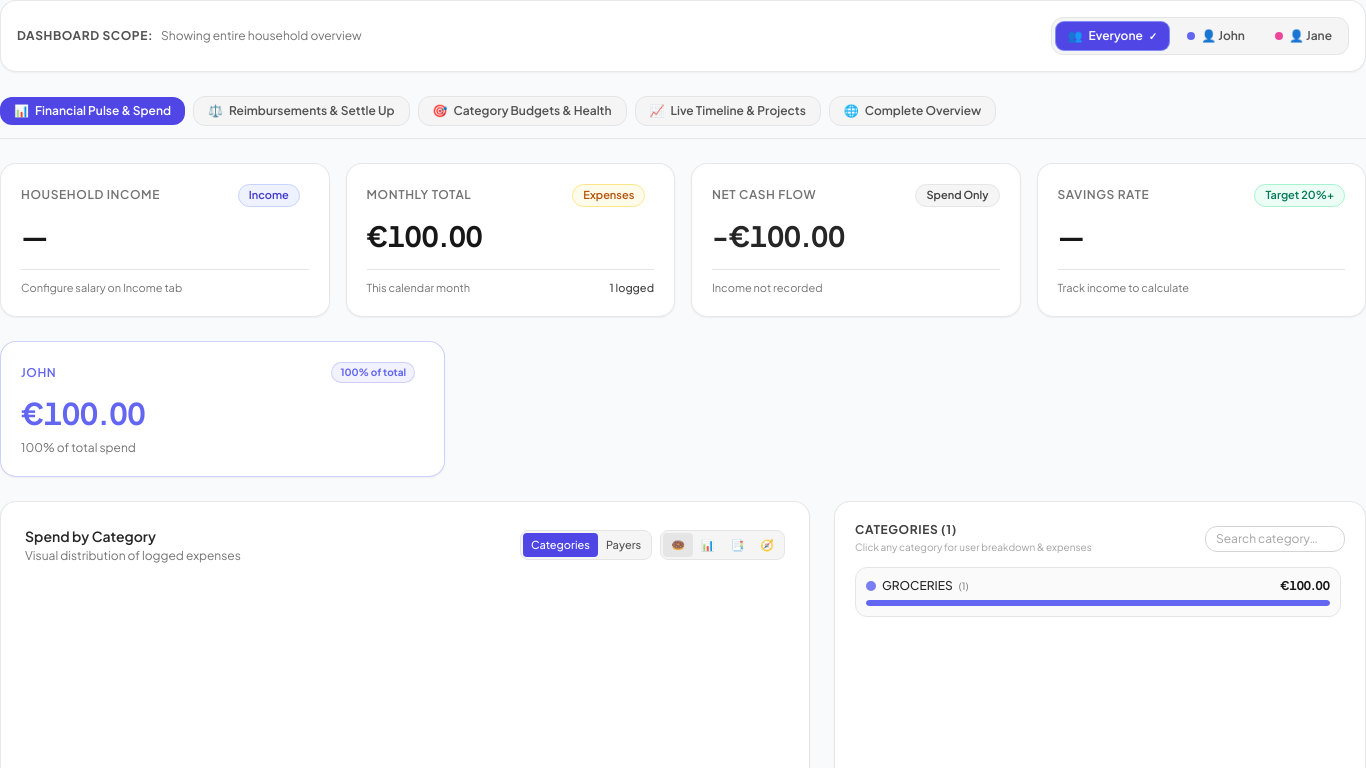
Test: AnalyticsSummary.svelte — Monthly Summary & Category Breakdown › opens category drill-down modal when clicking a category row in breakdown table
Click the button with aria-label "View user breakdown and expenses for GROCERIES" at {"x": 917, "y": 586}, box x1=855 y1=567 x2=1341 y2=617
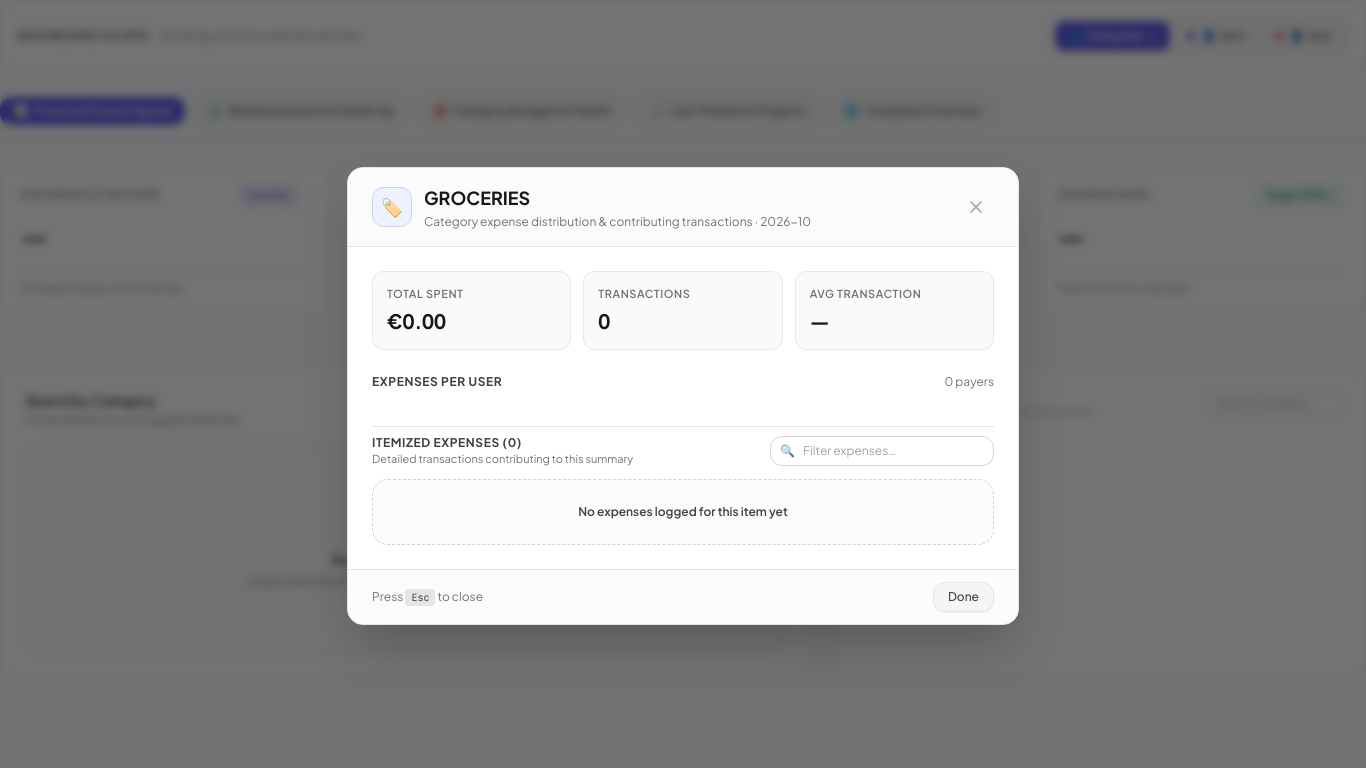
Expected: the heading "GROCERIES" is shown, x1=424 y1=184 x2=530 y2=212
Result: the dialog is shown at x1=347 y1=167 x2=1019 y2=625
